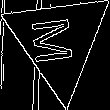M_E: (33, 16, 85, 67)
